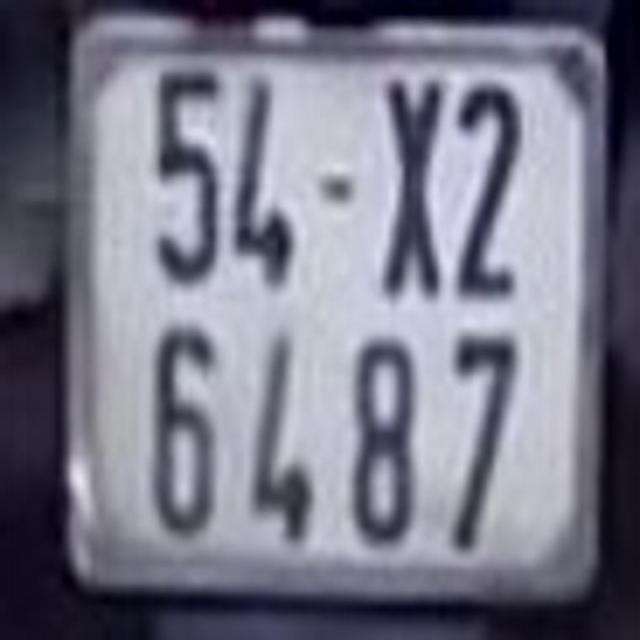2: (458, 80, 522, 291)
4: (228, 73, 295, 289), (251, 330, 317, 540)
5: (158, 69, 221, 280)
6: (152, 322, 220, 533)
7: (451, 331, 512, 552)
8: (349, 330, 420, 545)
X: (376, 79, 444, 291)
